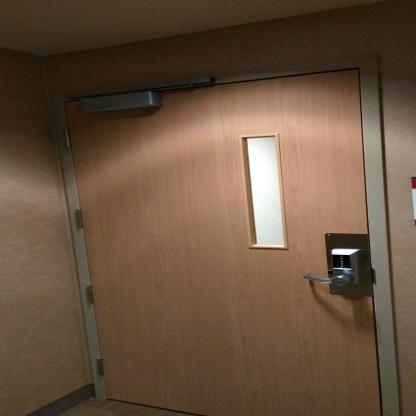door: (50, 67, 371, 415)
hinged: (82, 282, 98, 306), (72, 208, 88, 230), (62, 128, 76, 150), (95, 356, 108, 378)
lever: (297, 271, 350, 290)
